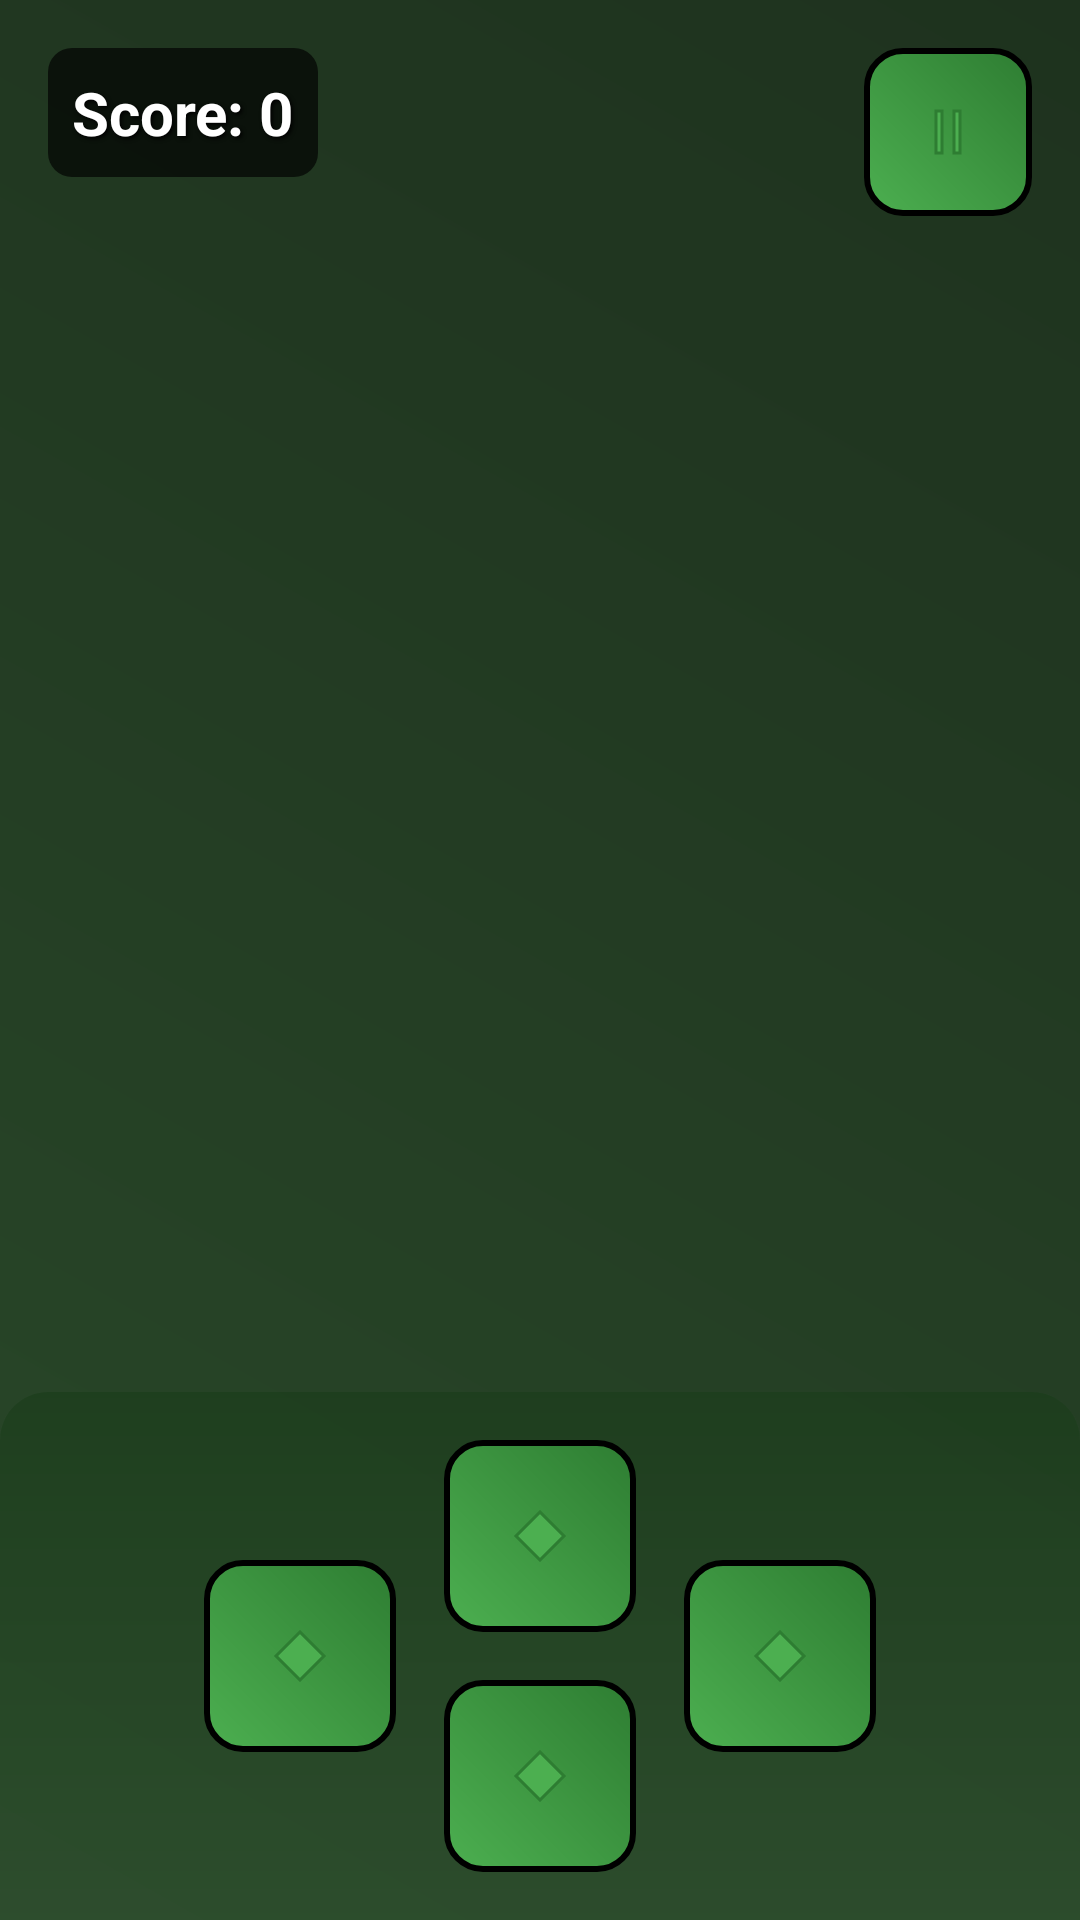

Point at icon controls on the screen. Image size 1080 × 1920, points as (x=x, y=y).
Pause: (x=948, y=132)
